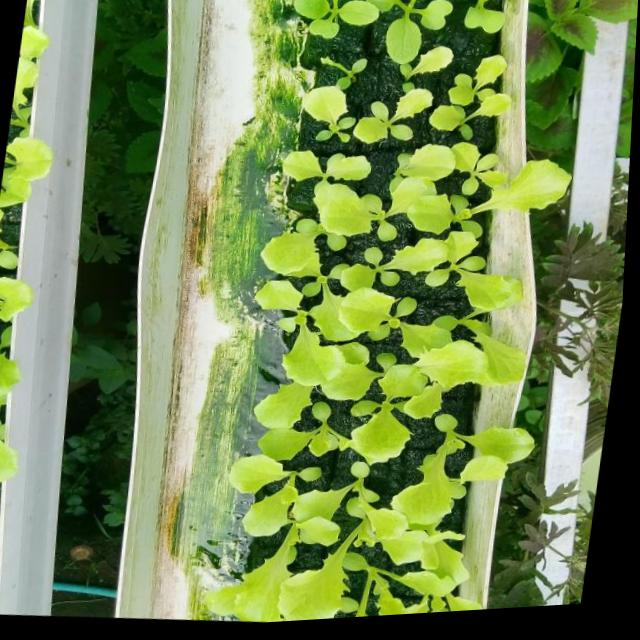Baby: (385, 157, 541, 268), (202, 486, 360, 585), (194, 372, 319, 483), (372, 523, 532, 609), (266, 229, 387, 328), (269, 164, 371, 277), (251, 51, 374, 132), (425, 0, 556, 72), (447, 52, 543, 149), (412, 222, 509, 310), (209, 340, 376, 390), (429, 300, 519, 386), (406, 450, 480, 543), (373, 34, 463, 108), (348, 219, 424, 305), (397, 391, 508, 449), (231, 292, 346, 347), (335, 0, 470, 32), (344, 462, 413, 524), (357, 408, 406, 476)
